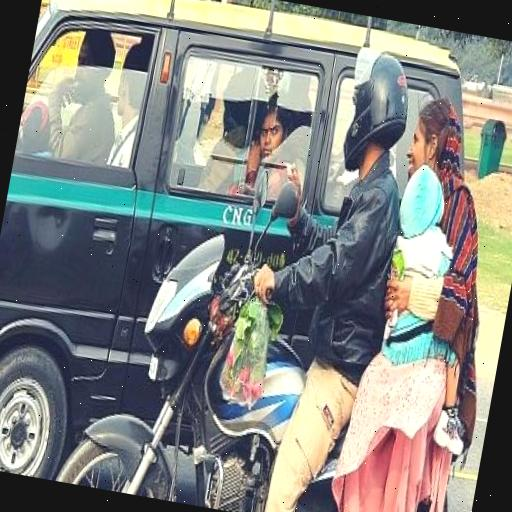helmet: (201, 6, 458, 512)
